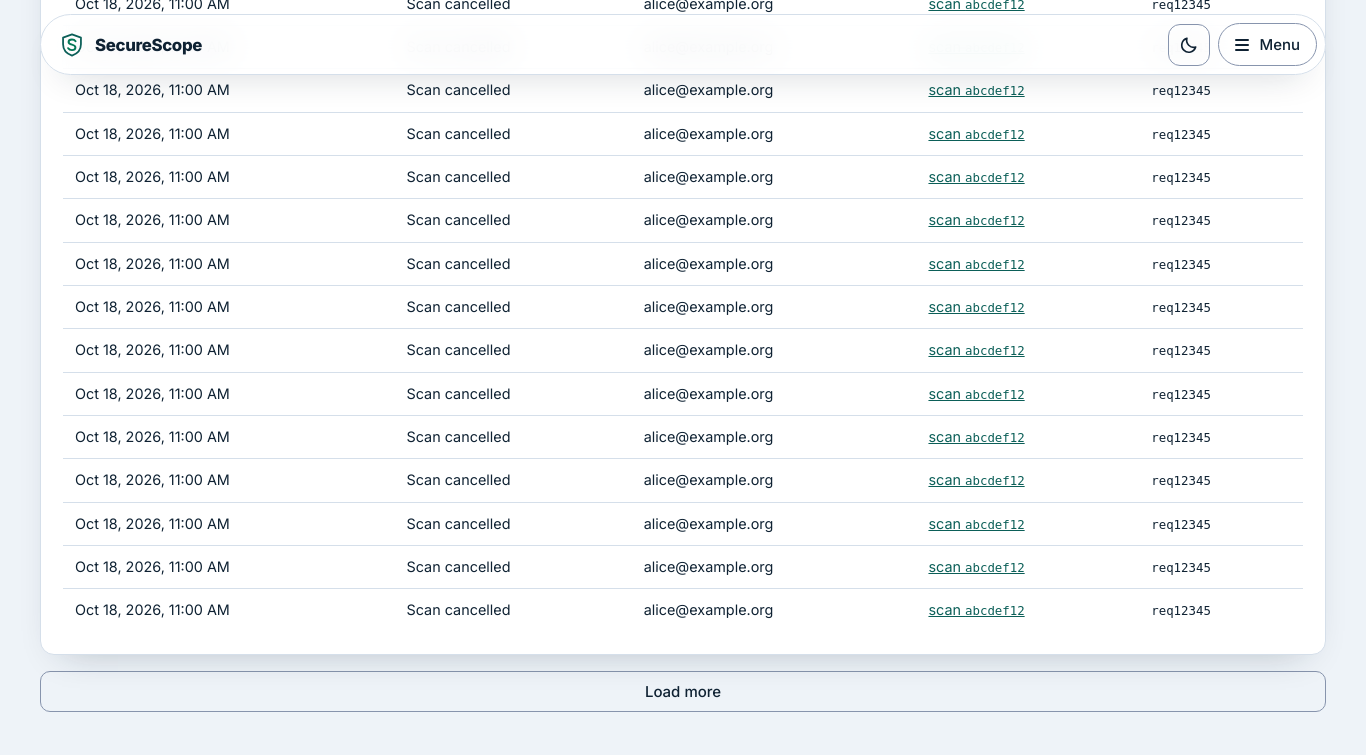
Test: audit log › loads further pages from where the list ended
(page scrolled)
Click the button "Load more": (683, 691) [40,671,1326,712]
(page scrolled)
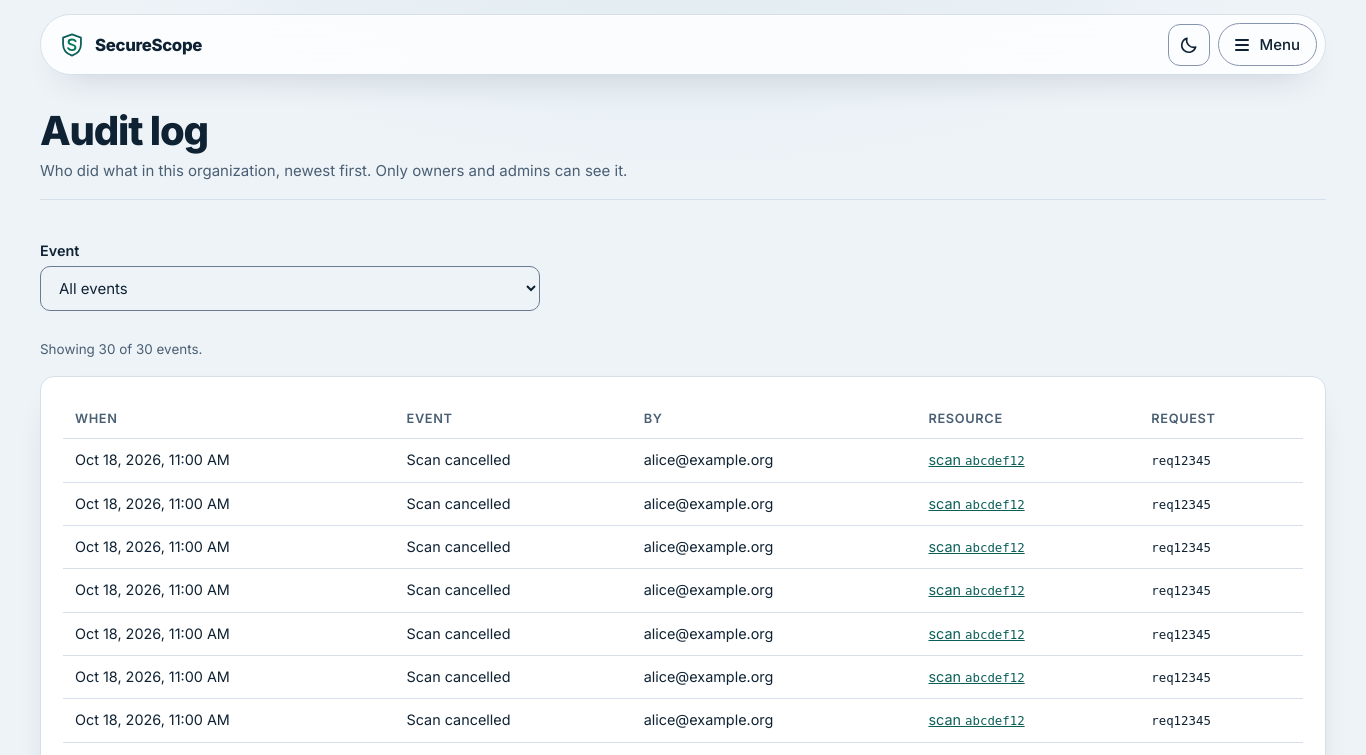
Check: the text "Showing 30 of 30 events." is shown, box [40,341,202,357]
Check: the button "Load more" is gone
